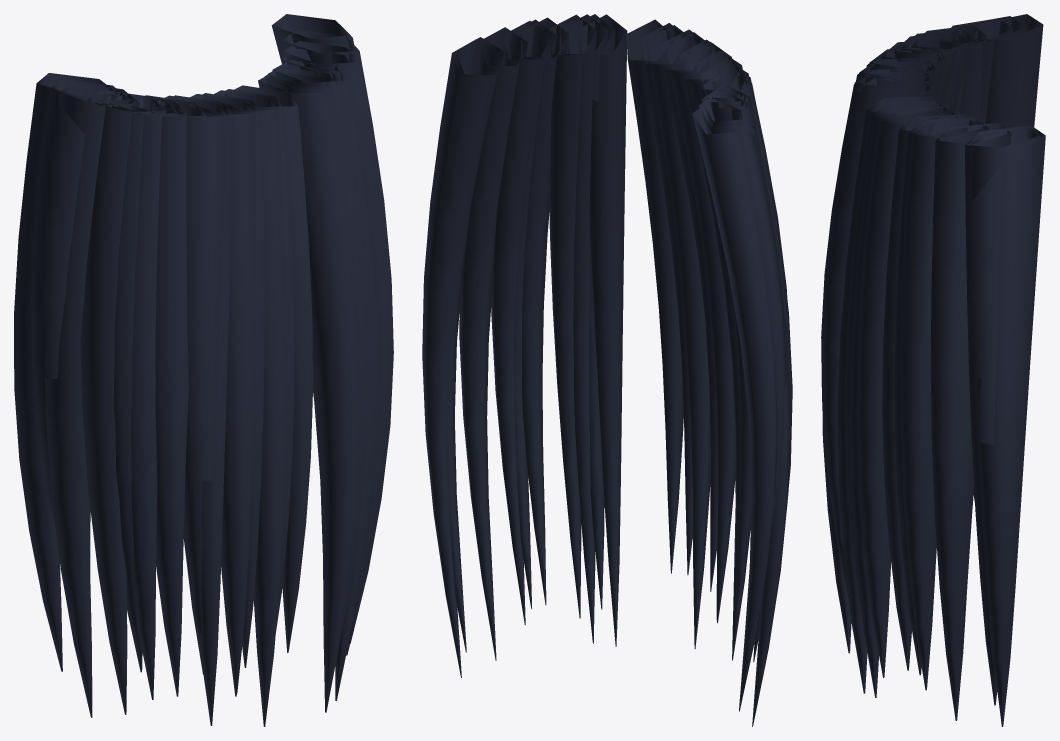
The model's file is anime_hair_long.glb.
3 renders of one model, left to right at view 1: azimuth 30°, elevation 25°; view 2: azimuth 150°, elevation 25°; view 3: azimuth 270°, elevation 25°, orthographic. The views are drawn at different scales.
Visible parts, largest first — view 1: long; view 2: long; view 3: long.
Boxes of the visible parts, x1=… form: long: x1=14, y1=14, x2=393, y2=726; long: x1=422, y1=14, x2=792, y2=726; long: x1=821, y1=14, x2=1045, y2=726.
Bounding box in the file's own units: 0.3783 × 0.6364 × 0.2206.
